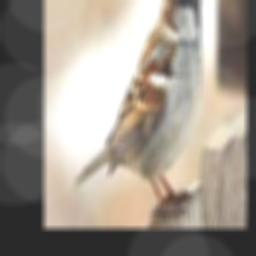Sparrow: (72, 0, 208, 219)
